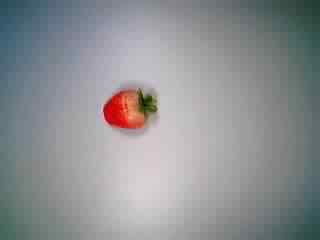strawberry: (98, 79, 164, 141)
